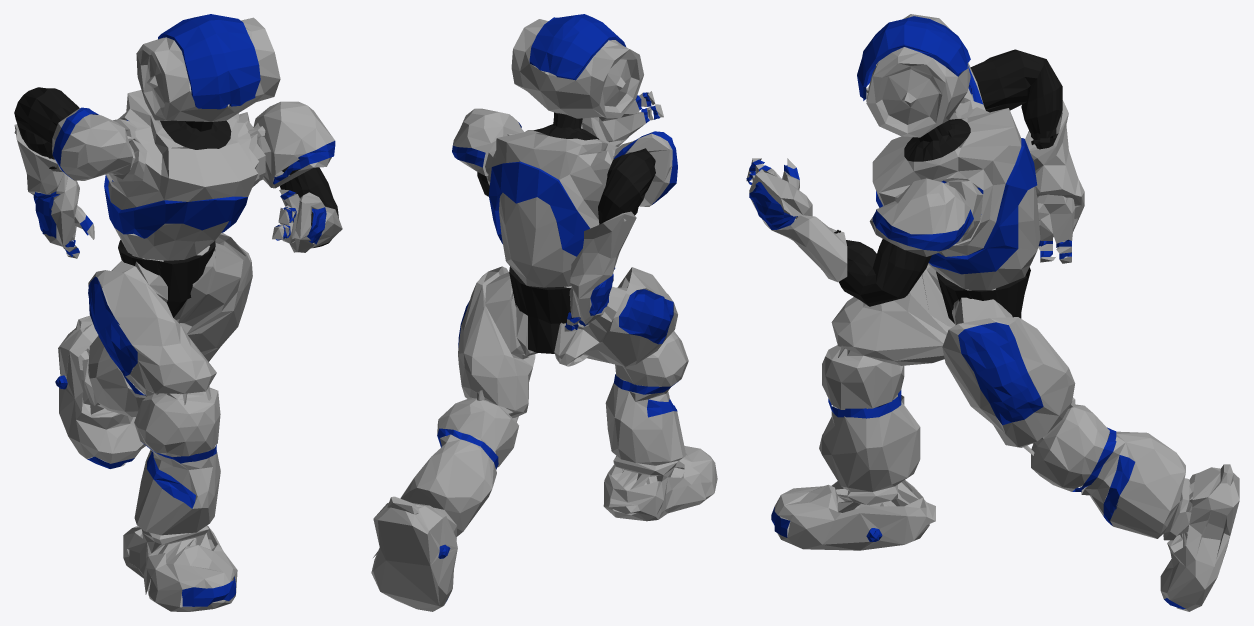
The model's file is run17.obj.
3 views of the same model, side by side, from view 1: azimuth 30°, elevation 25°; view 2: azimuth 150°, elevation 25°; view 3: azimuth 270°, elevation 25° (orthographic). The views are drawn at different scales.
Visible parts, largest first — view 1: Robot2.001_Robot2Mesh.000, Robot2_Robot2Mesh.004, Robot2.002_Robot2Mesh.001; view 2: Robot2.001_Robot2Mesh.000, Robot2_Robot2Mesh.004, Robot2.002_Robot2Mesh.001; view 3: Robot2.001_Robot2Mesh.000, Robot2_Robot2Mesh.004, Robot2.002_Robot2Mesh.001.
Boxes of the visible parts, left/top/right/bottom form: Robot2.001_Robot2Mesh.000: left=14, top=17, right=342, bottom=611; Robot2_Robot2Mesh.004: left=33, top=14, right=335, bottom=606; Robot2.002_Robot2Mesh.001: left=14, top=87, right=338, bottom=317; Robot2.001_Robot2Mesh.000: left=371, top=19, right=717, bottom=611; Robot2_Robot2Mesh.004: left=437, top=14, right=678, bottom=603; Robot2.002_Robot2Mesh.001: left=477, top=112, right=655, bottom=353; Robot2.001_Robot2Mesh.000: left=746, top=14, right=1239, bottom=611; Robot2_Robot2Mesh.004: left=746, top=16, right=1185, bottom=609; Robot2.002_Robot2Mesh.001: left=834, top=49, right=1062, bottom=323.
Size of the model in its own units: 0.95 by 1.97 by 1.56.
